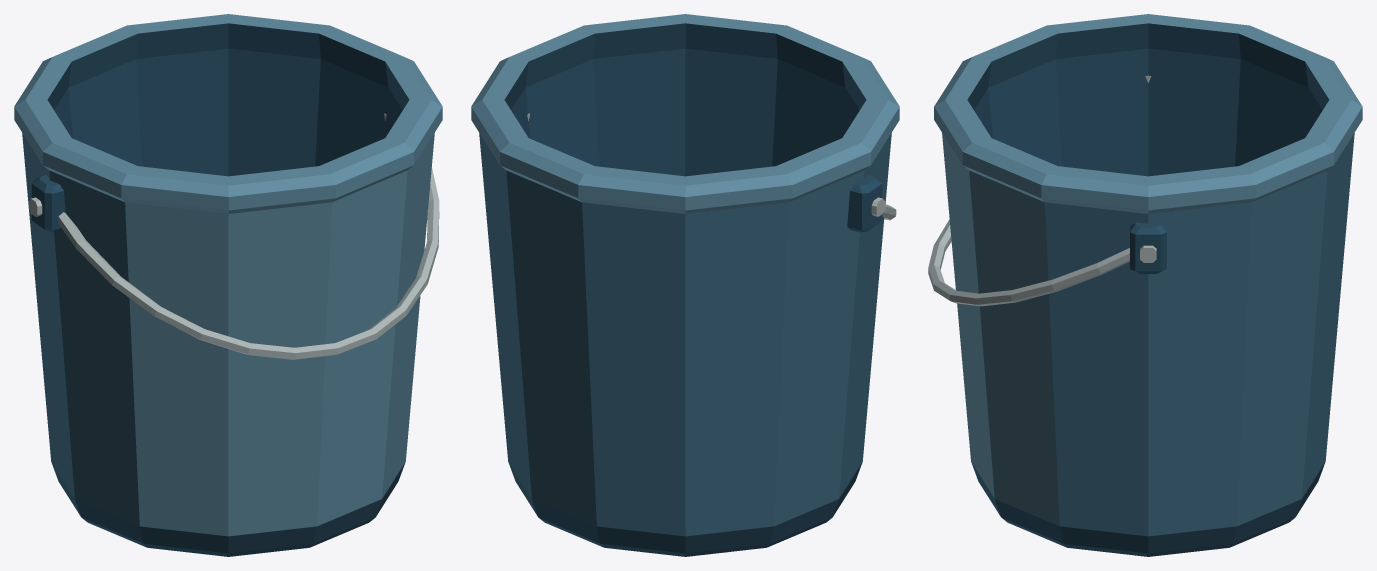
Rendered from FishermanDad_Bucket.fbx.
3 views of the same model, side by side, from view 1: azimuth 30°, elevation 25°; view 2: azimuth 150°, elevation 25°; view 3: azimuth 270°, elevation 25° (orthographic).
Visible parts, largest first — view 1: Bucket_Geo.001; view 2: Bucket_Geo.001; view 3: Bucket_Geo.001.
Part boxes in pixels (left/top/right/bottom): Bucket_Geo.001: left=14, top=14, right=442, bottom=556; Bucket_Geo.001: left=471, top=14, right=899, bottom=556; Bucket_Geo.001: left=928, top=14, right=1362, bottom=556.
Size of the model in its own units: 1.22 by 1.16 by 1.18.
Materials: 1 (1 with a texture image).
